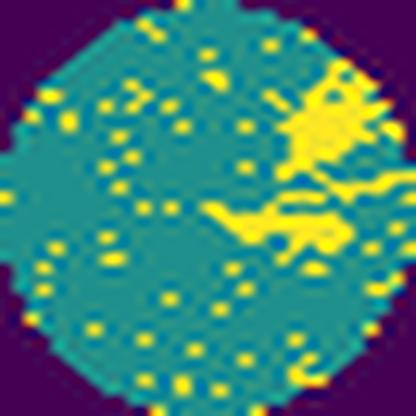Loc: (276, 60, 416, 203), (202, 193, 358, 261)
